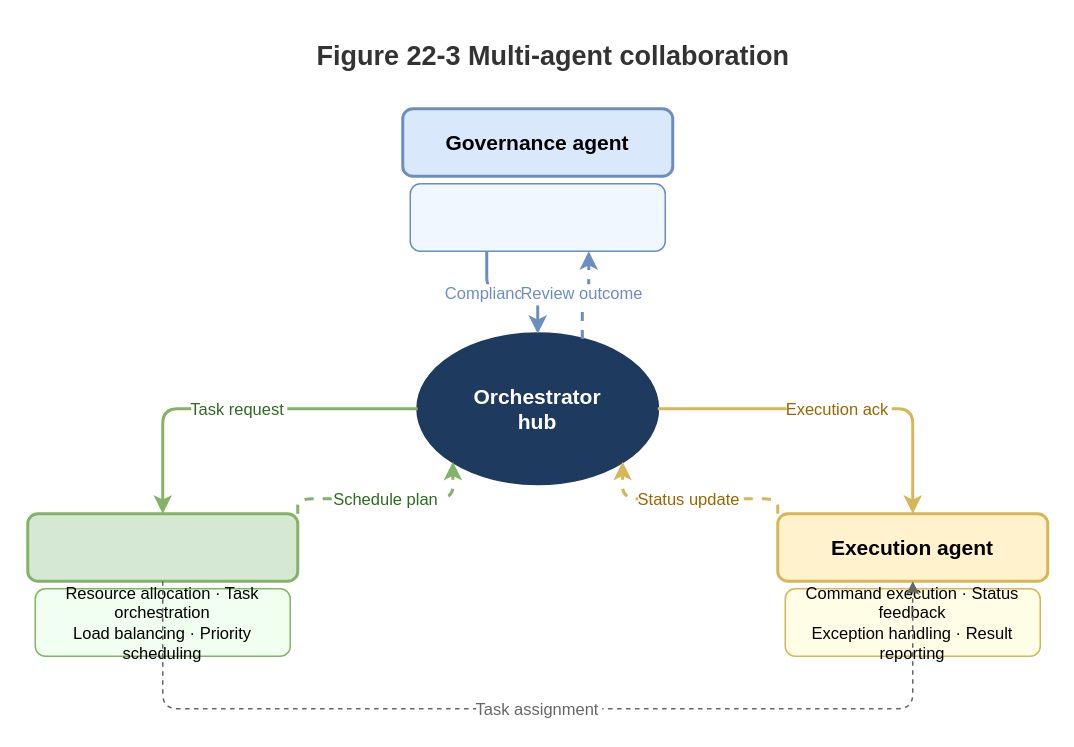
The diagram is 1074 pixels wide and 747 high, and some of its shapes have lost their labels. Each missing label, with the centre of its shape:
"Compliance review · Rule enforcement Policy checks · Violation alerts" goes at (537,216).
"Scheduling agent" goes at (162,547).
